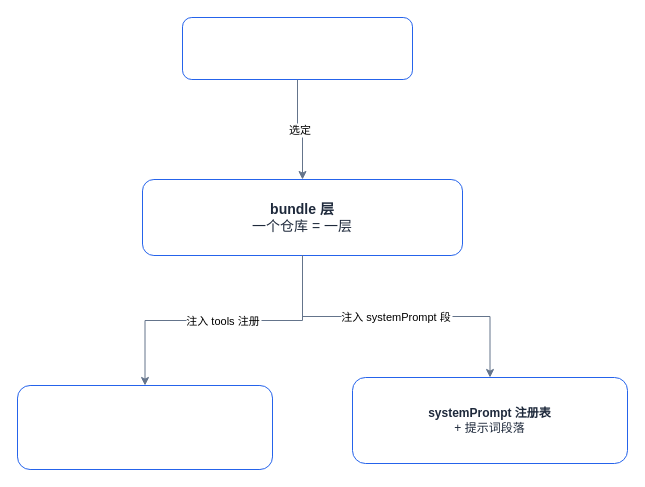
Some shapes in this 645 by 487 pixel diagram are drawn without their labels. Here are the shapes that lost their labels. From the top down, the centre of each, then its label:
[297,48]: preset / profile
[144,427]: tools 注册表 + 工具 schema
